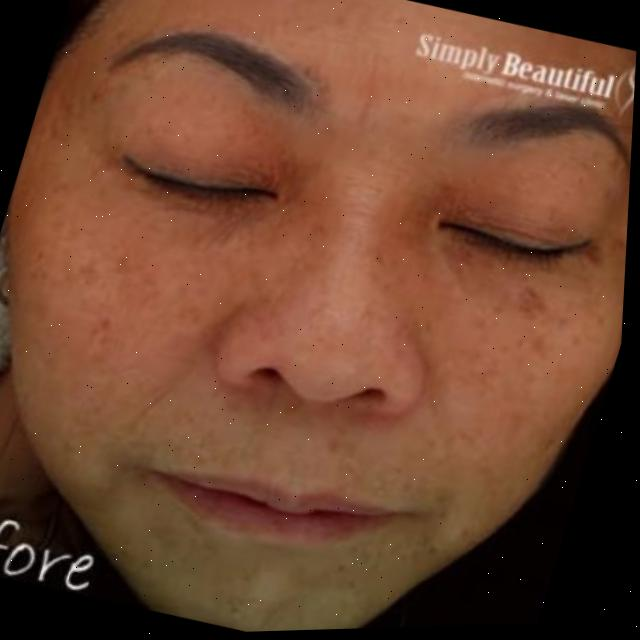Melasma: (426, 248, 605, 393), (20, 76, 99, 175)
